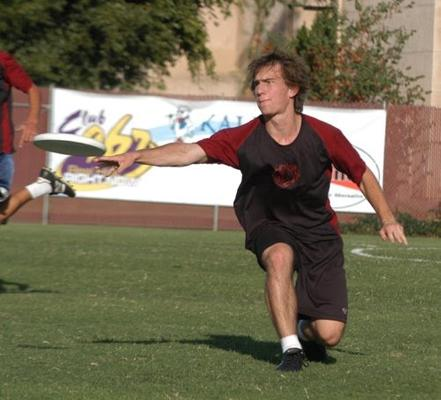person: (93, 50, 409, 372)
